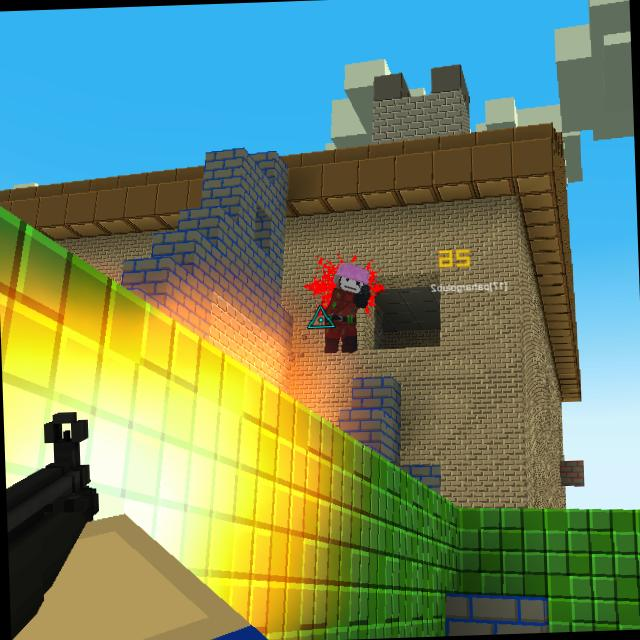enemy: (316, 257, 377, 354)
